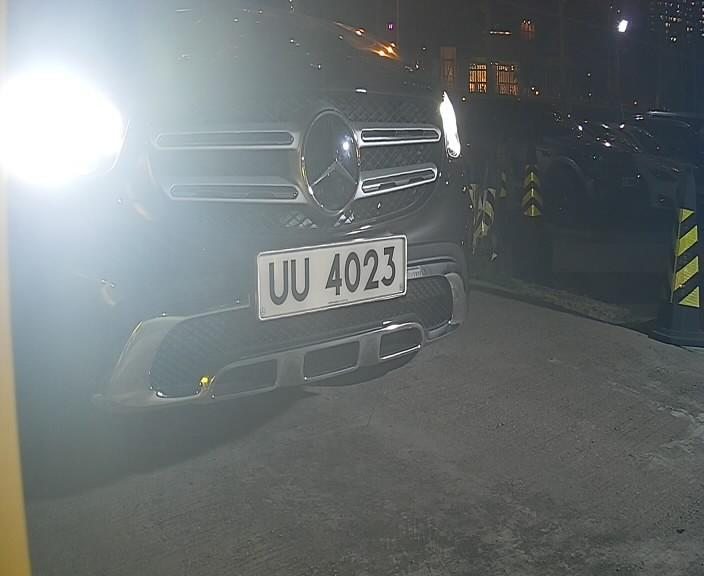License Plate: (249, 224, 409, 327)
